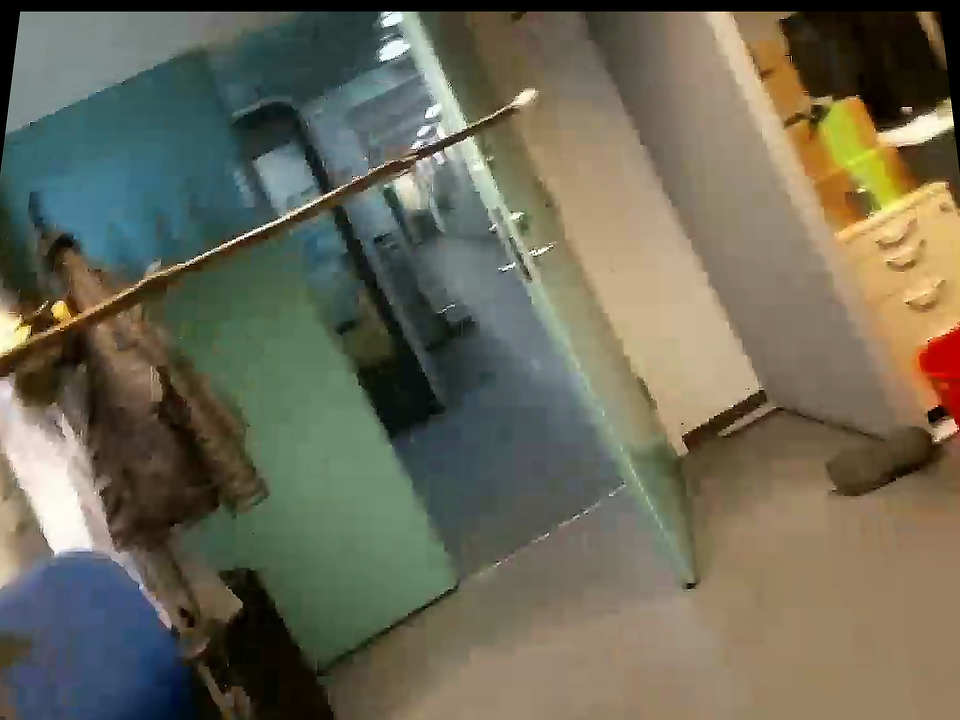branch: (152, 103, 475, 290)
